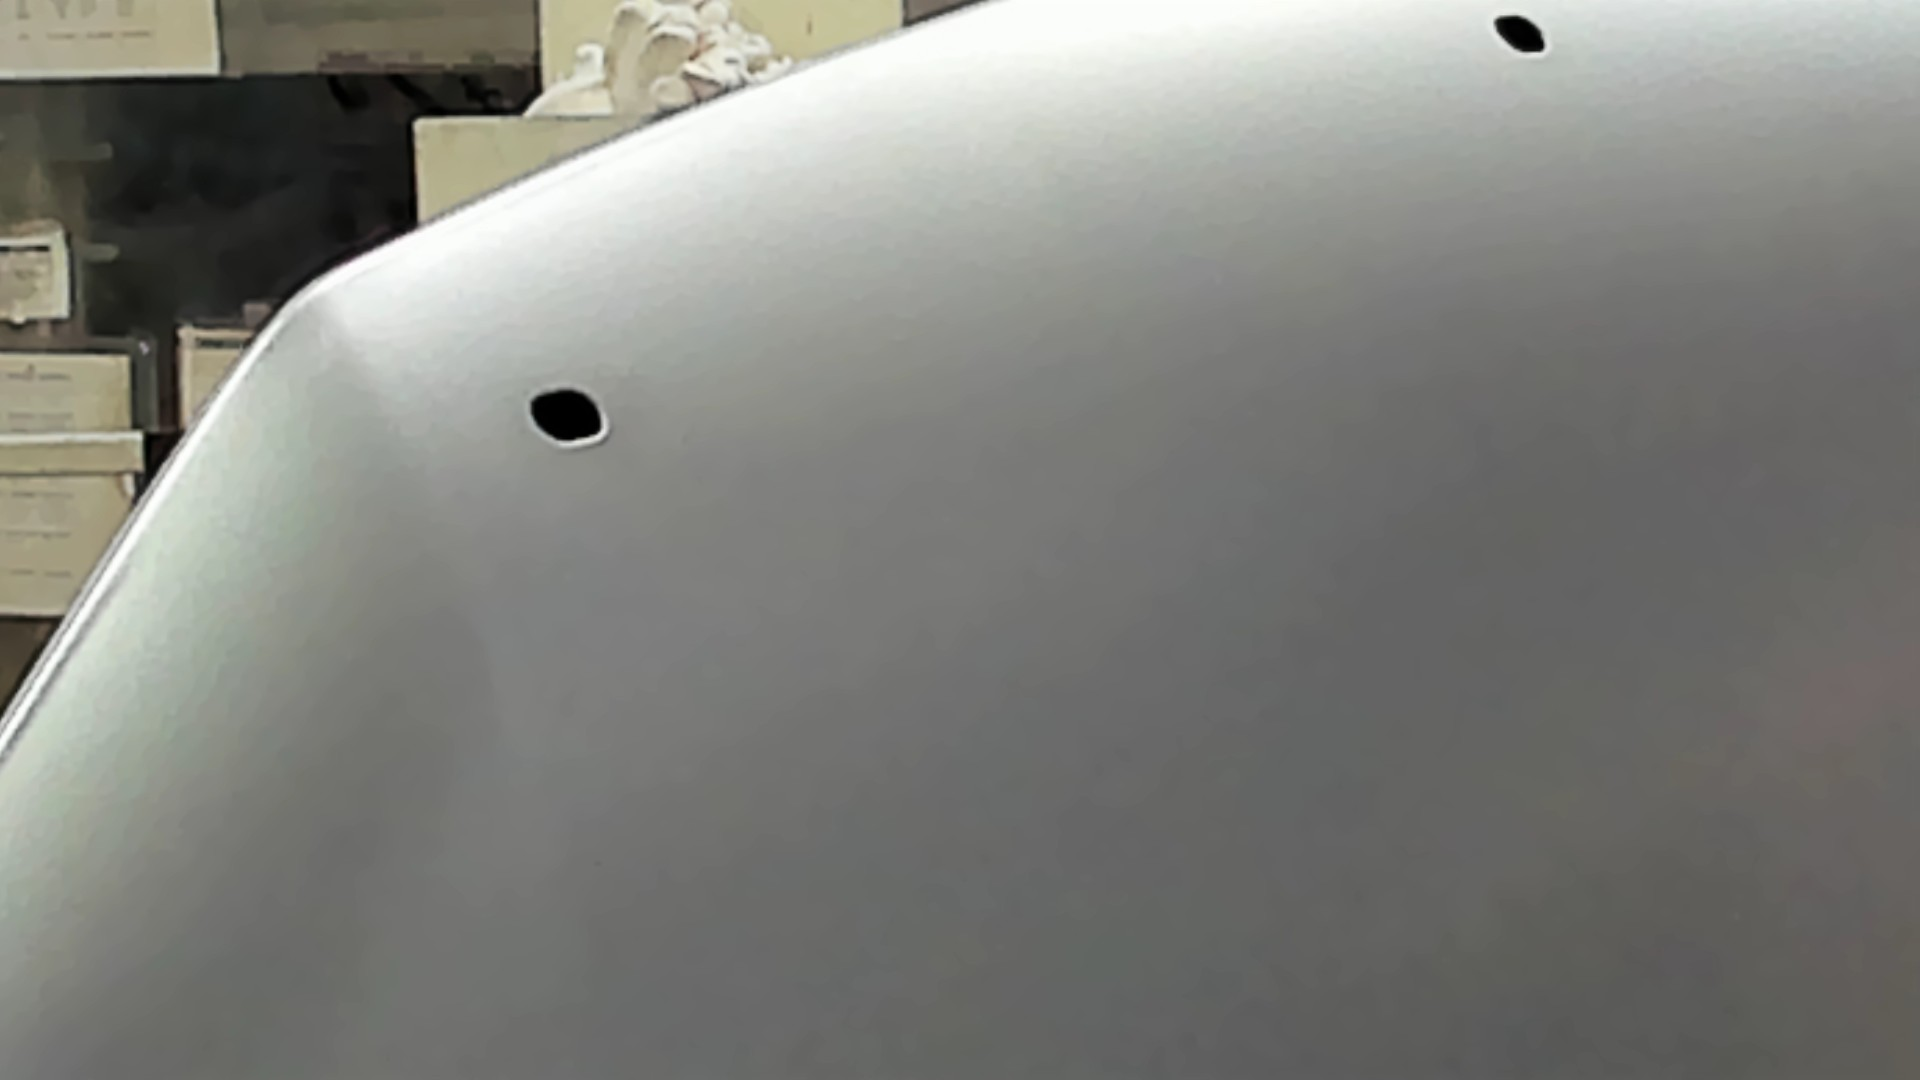amorfo: (513, 382, 615, 451), (1484, 11, 1559, 61)
capo: (729, 138, 1920, 1080)
